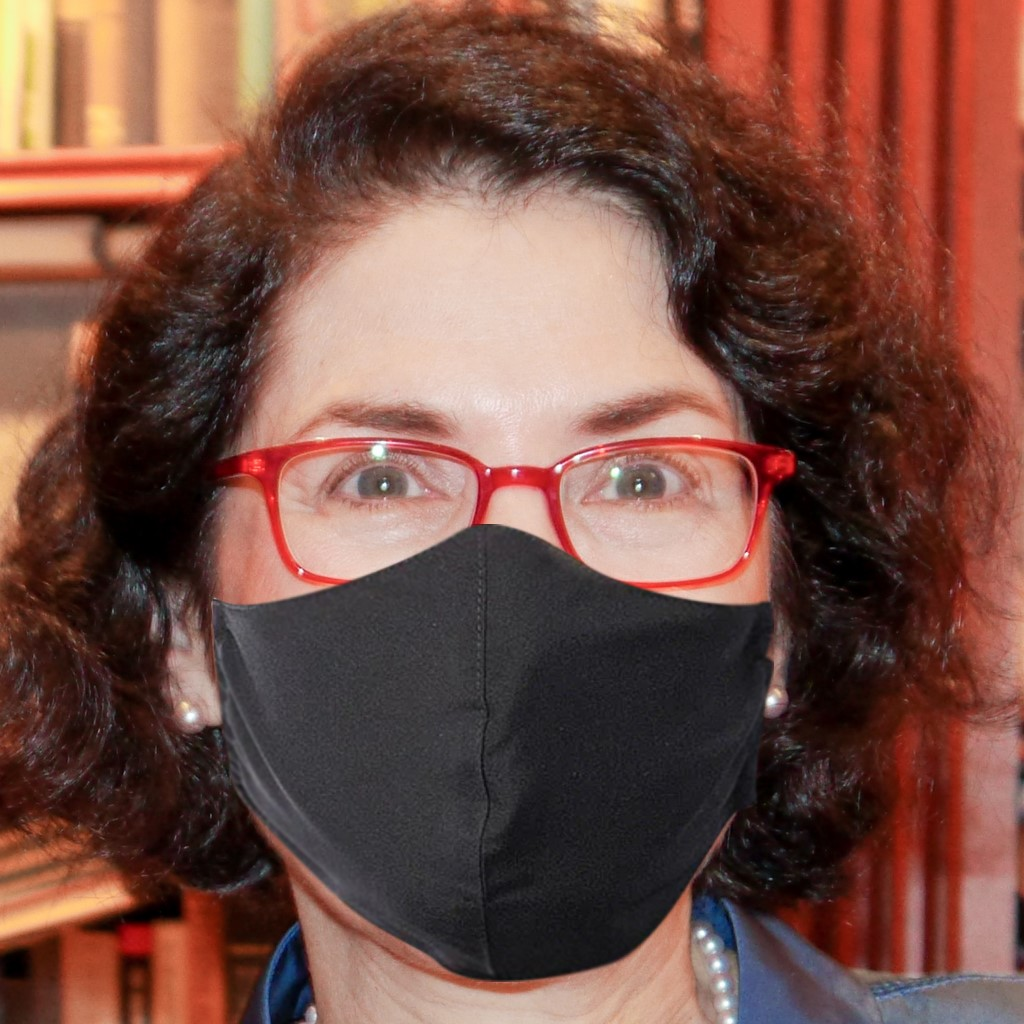con_mascara: (216, 174, 784, 981)
